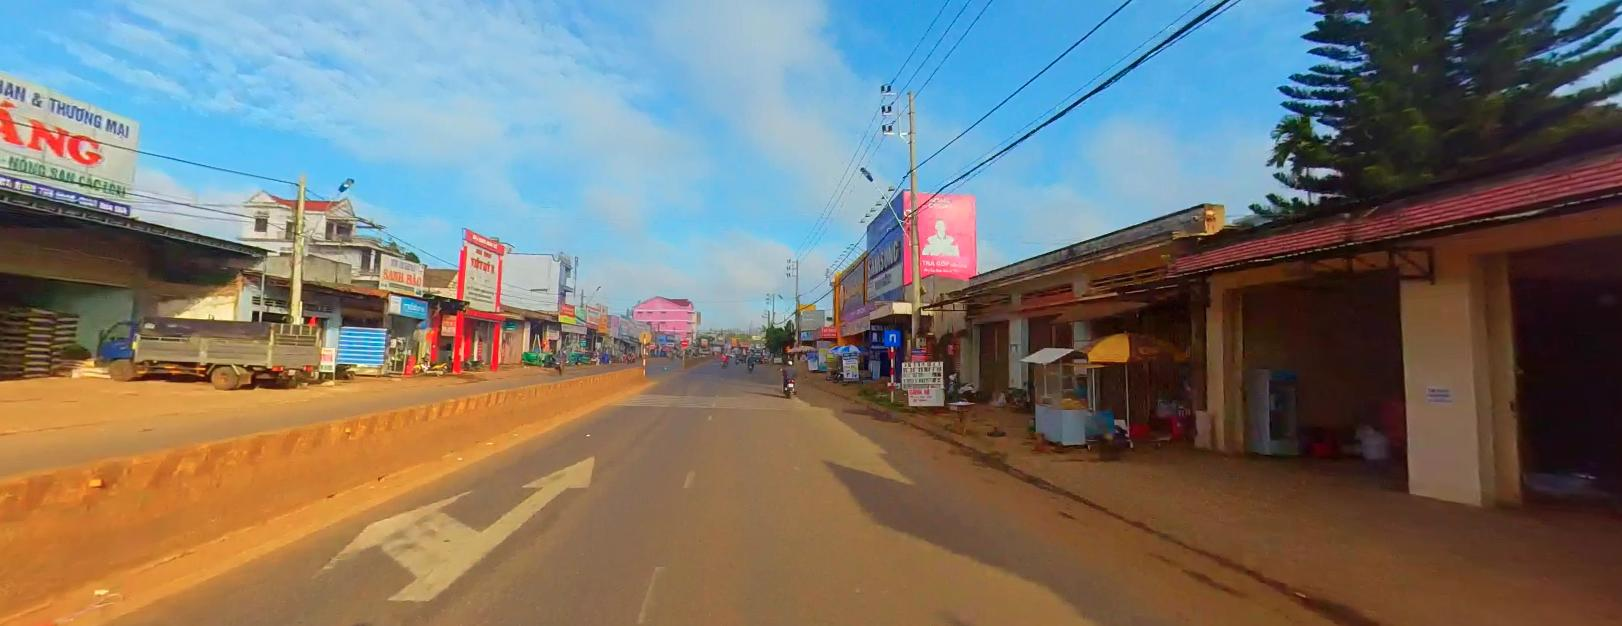Cam nguoc chieu: (679, 337, 687, 344)
Nguy hiem: (784, 343, 791, 350)
